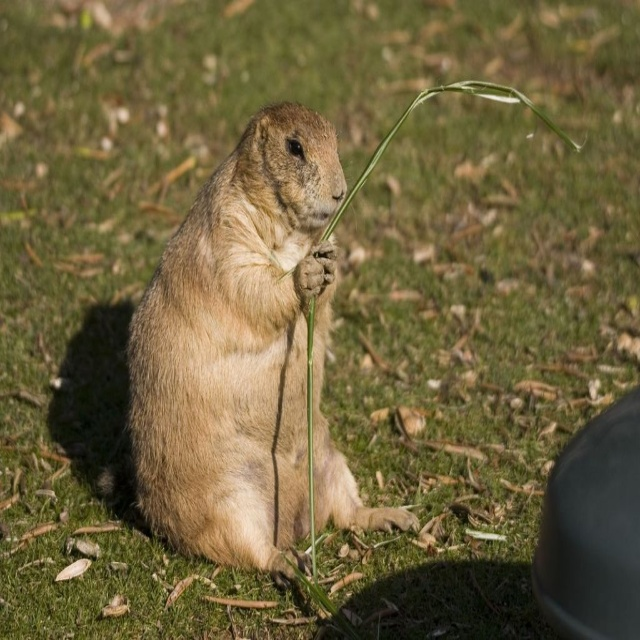Squirrel: (120, 102, 420, 591)
